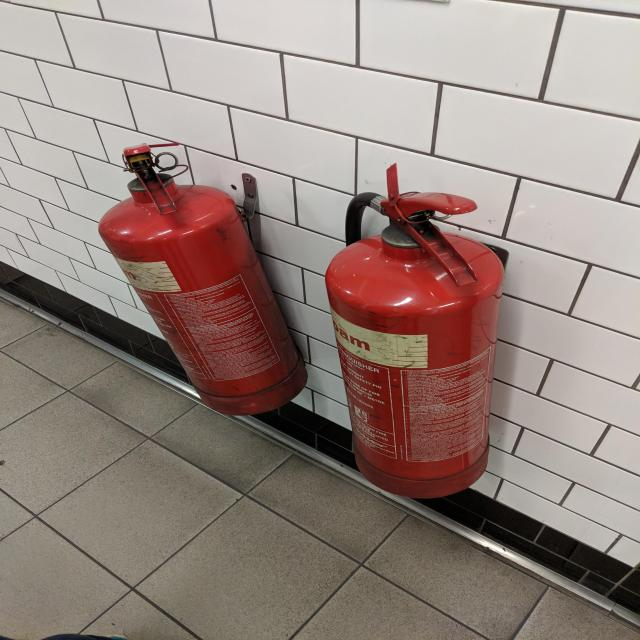fire_extinguisher: (93, 142, 315, 420), (318, 183, 510, 502)
